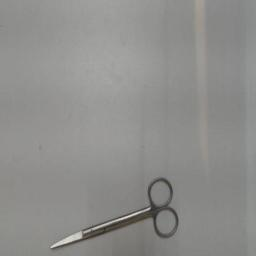Curved Mayo Scissors: (48, 173, 184, 253)
